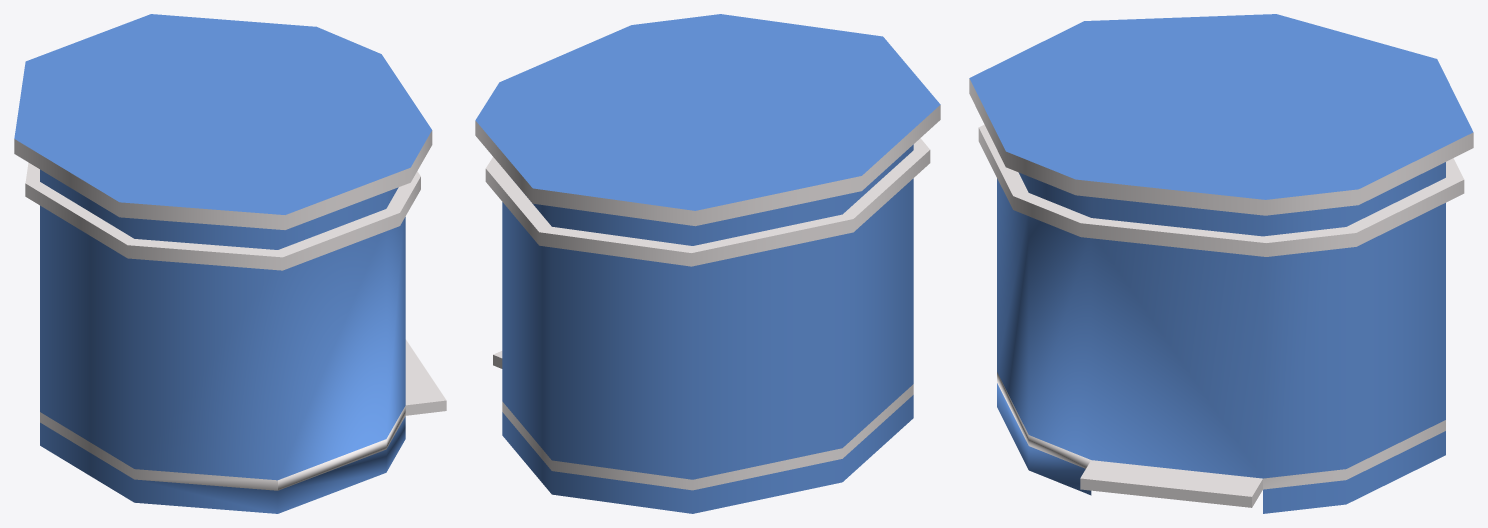
File: Mini_Ray_Center.fbx
The picture shows the model from 3 angles, left to right: view 1: azimuth 30°, elevation 25°; view 2: azimuth 150°, elevation 25°; view 3: azimuth 270°, elevation 25°; orthographic projection. The views are drawn at different scales.
Visible parts, largest first — view 1: Mini_Ray_Center; view 2: Mini_Ray_Center; view 3: Mini_Ray_Center.
Part boxes in pixels (box(x1,y1,x2,y2)): Mini_Ray_Center: box(14, 14, 446, 513); Mini_Ray_Center: box(475, 14, 940, 513); Mini_Ray_Center: box(969, 14, 1473, 513).
Bounding box in the file's own units: 1.02 × 0.8027 × 1.13.
